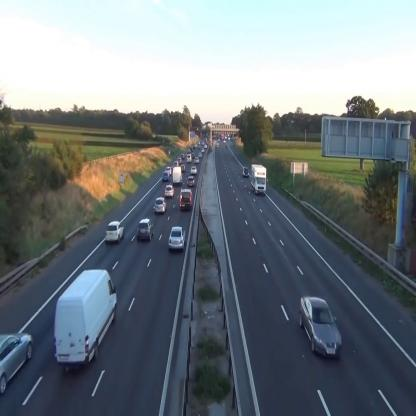car: (300, 295, 343, 358), (1, 333, 32, 395), (169, 227, 186, 253), (106, 221, 124, 244), (137, 219, 154, 242), (180, 189, 192, 211), (154, 198, 167, 213), (165, 185, 174, 197), (162, 171, 170, 180), (242, 166, 249, 176), (188, 176, 194, 186), (191, 166, 196, 173)
lorry: (55, 269, 117, 366), (251, 163, 267, 196), (172, 167, 182, 184)
